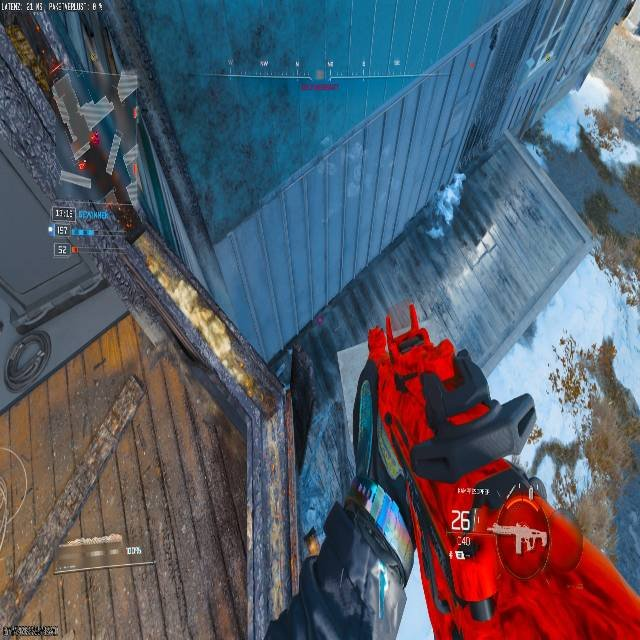player: (71, 113, 140, 234)
